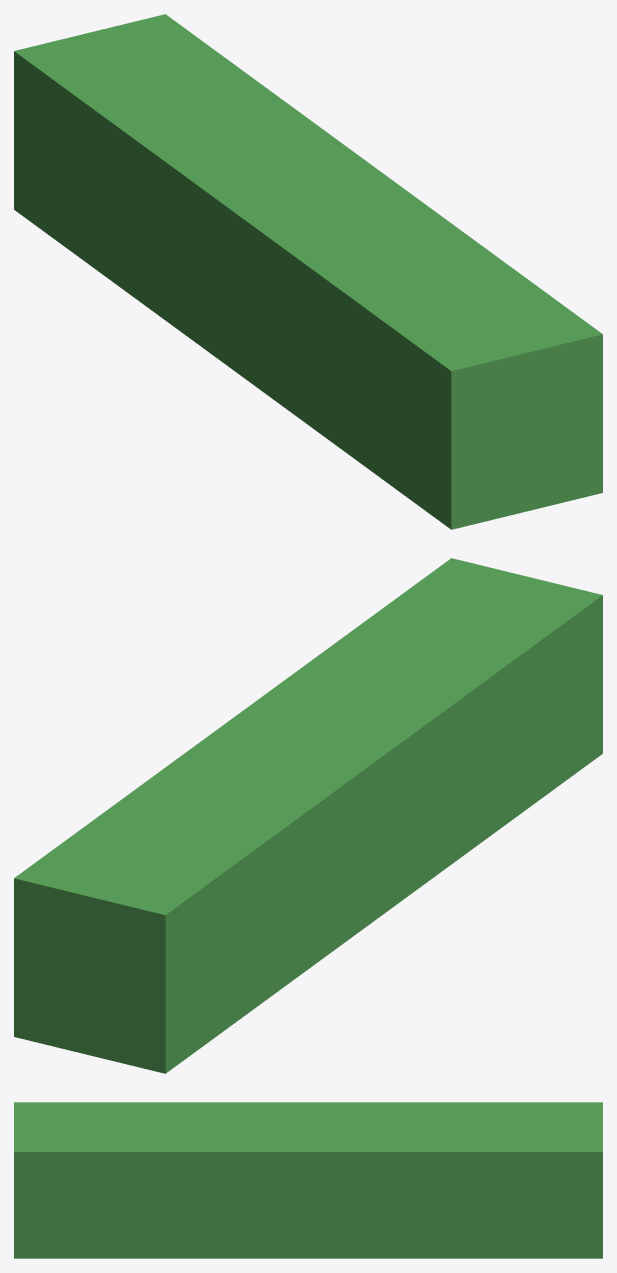
The model's file is map_flat.fbx.
3 views of the same model, one above another, from view 1: azimuth 30°, elevation 25°; view 2: azimuth 150°, elevation 25°; view 3: azimuth 270°, elevation 25° (orthographic). The views are drawn at different scales.
Visible parts, largest first — view 1: pasted__pCube2; view 2: pasted__pCube2; view 3: pasted__pCube2.
Part boxes in pixels (bbox=[...]): pasted__pCube2: bbox=[14, 14, 602, 529]; pasted__pCube2: bbox=[14, 558, 602, 1073]; pasted__pCube2: bbox=[14, 1102, 602, 1258].
Size of the model in its own units: 250 by 250 by 1250.
